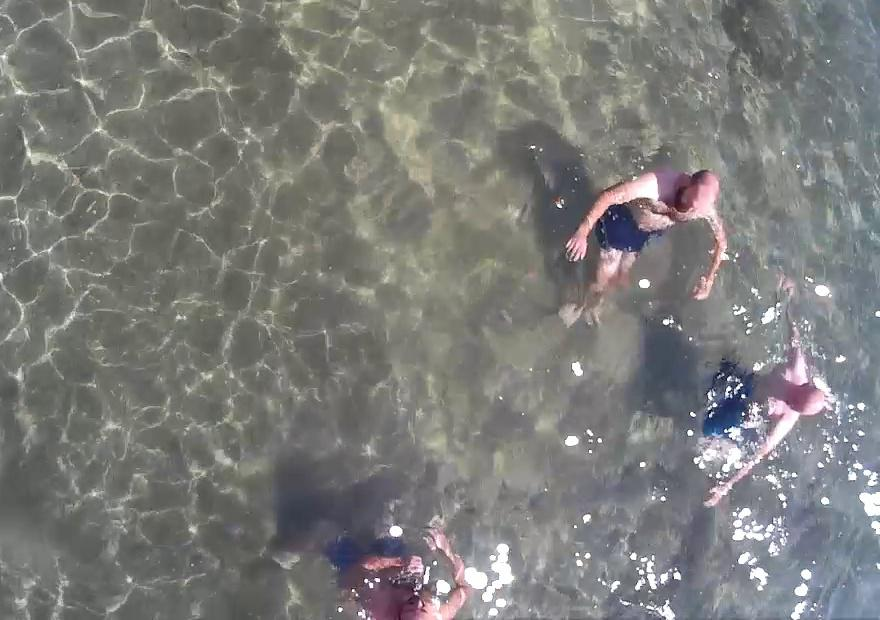swimmer: (560, 136, 737, 349), (700, 274, 824, 538), (0, 1, 1, 1)
